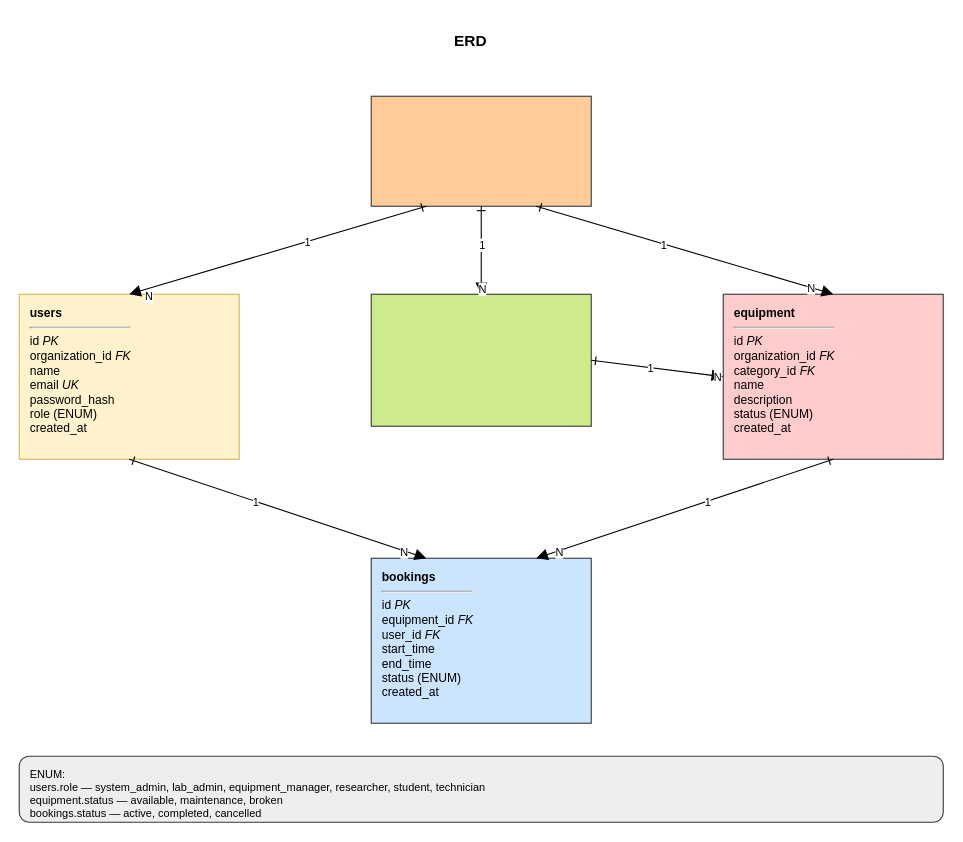
This 963x842 diagram has some shape labels left out. The shapes that lost their labels are listed below. From the top down, each one's centre as x and y in pixels, then its label:
the point at 480,150: organizations id PK name description created_at
the point at 480,359: equipment_categories id PK organization_id FK name description created_at
